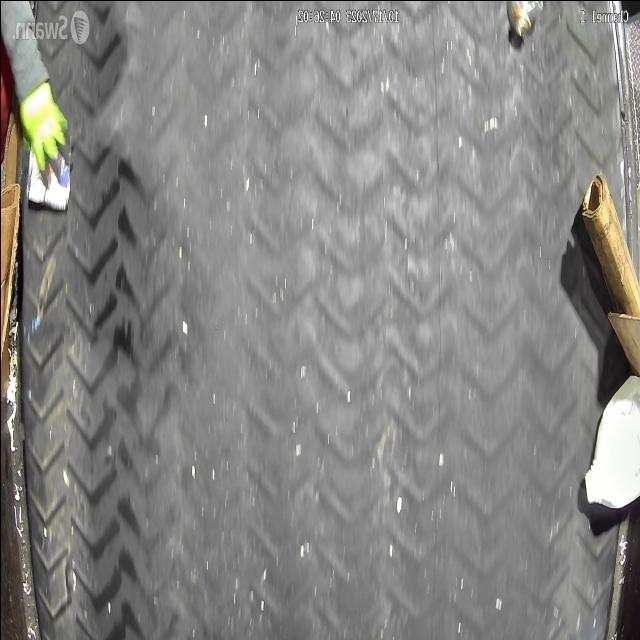milk_jug: (582, 374, 640, 508)
